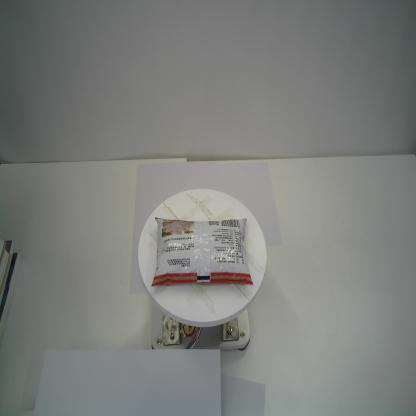Seasoner: (150, 215, 255, 287)
